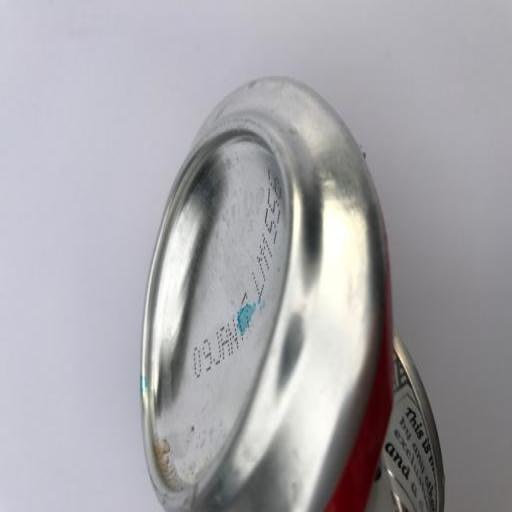waste: (120, 52, 454, 512)
